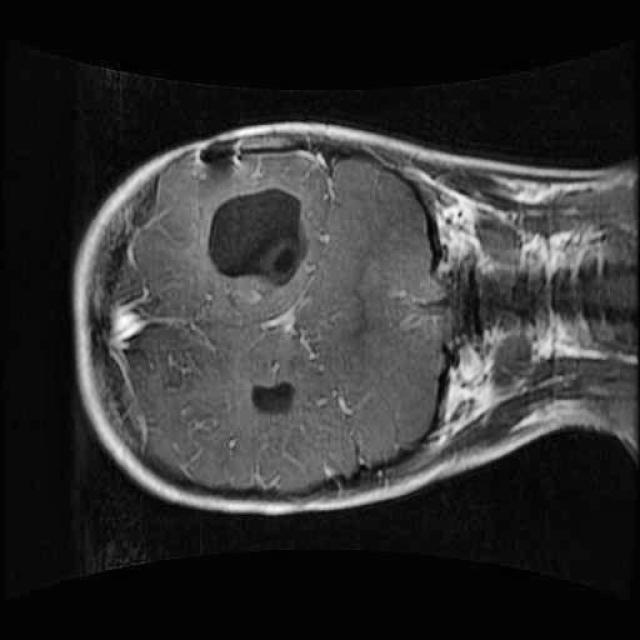Tumor: (196, 182, 326, 314)
